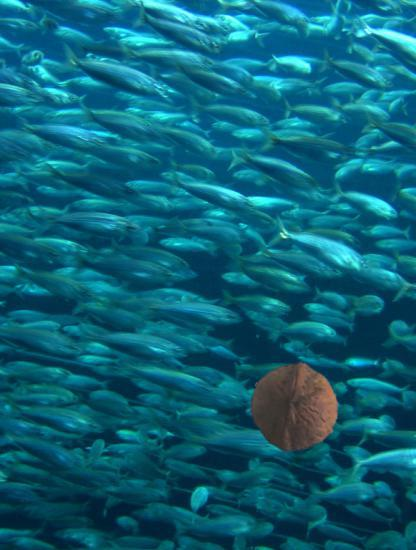Walnut: (249, 362, 340, 453)
